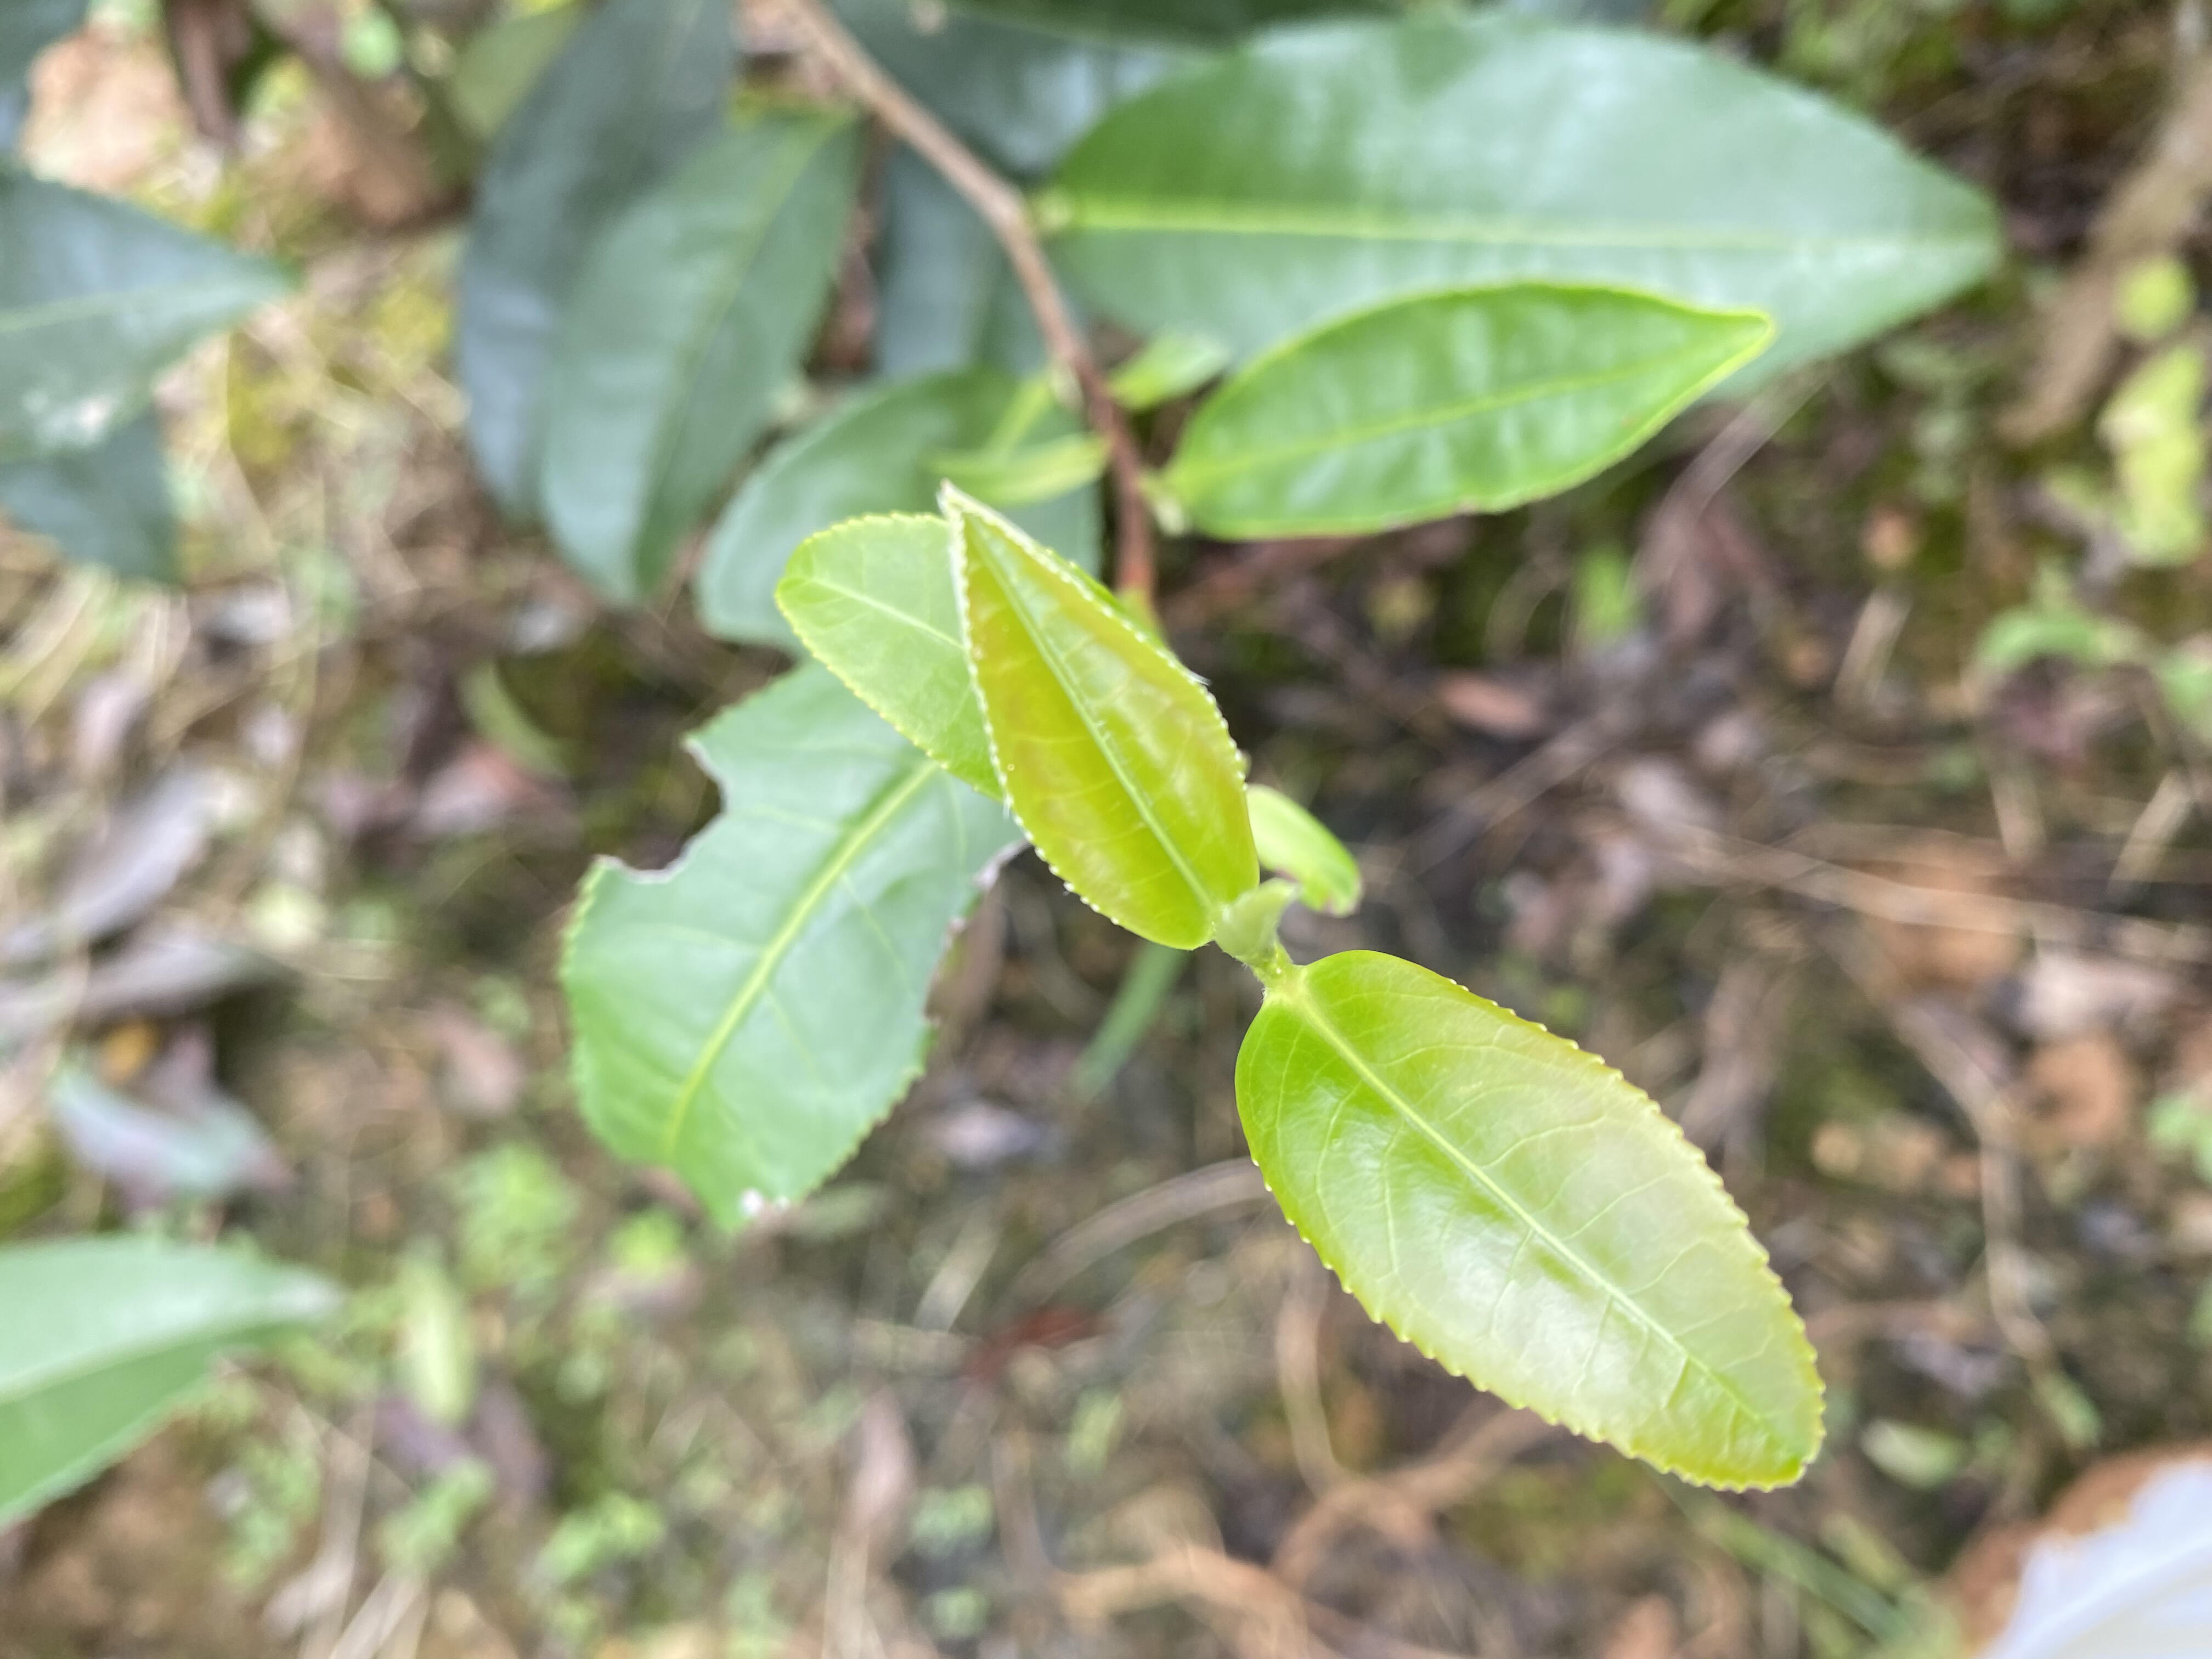chihuo_high: (554, 659, 1029, 1237)
healthy: (1235, 950, 1827, 1493), (935, 481, 1264, 955)
